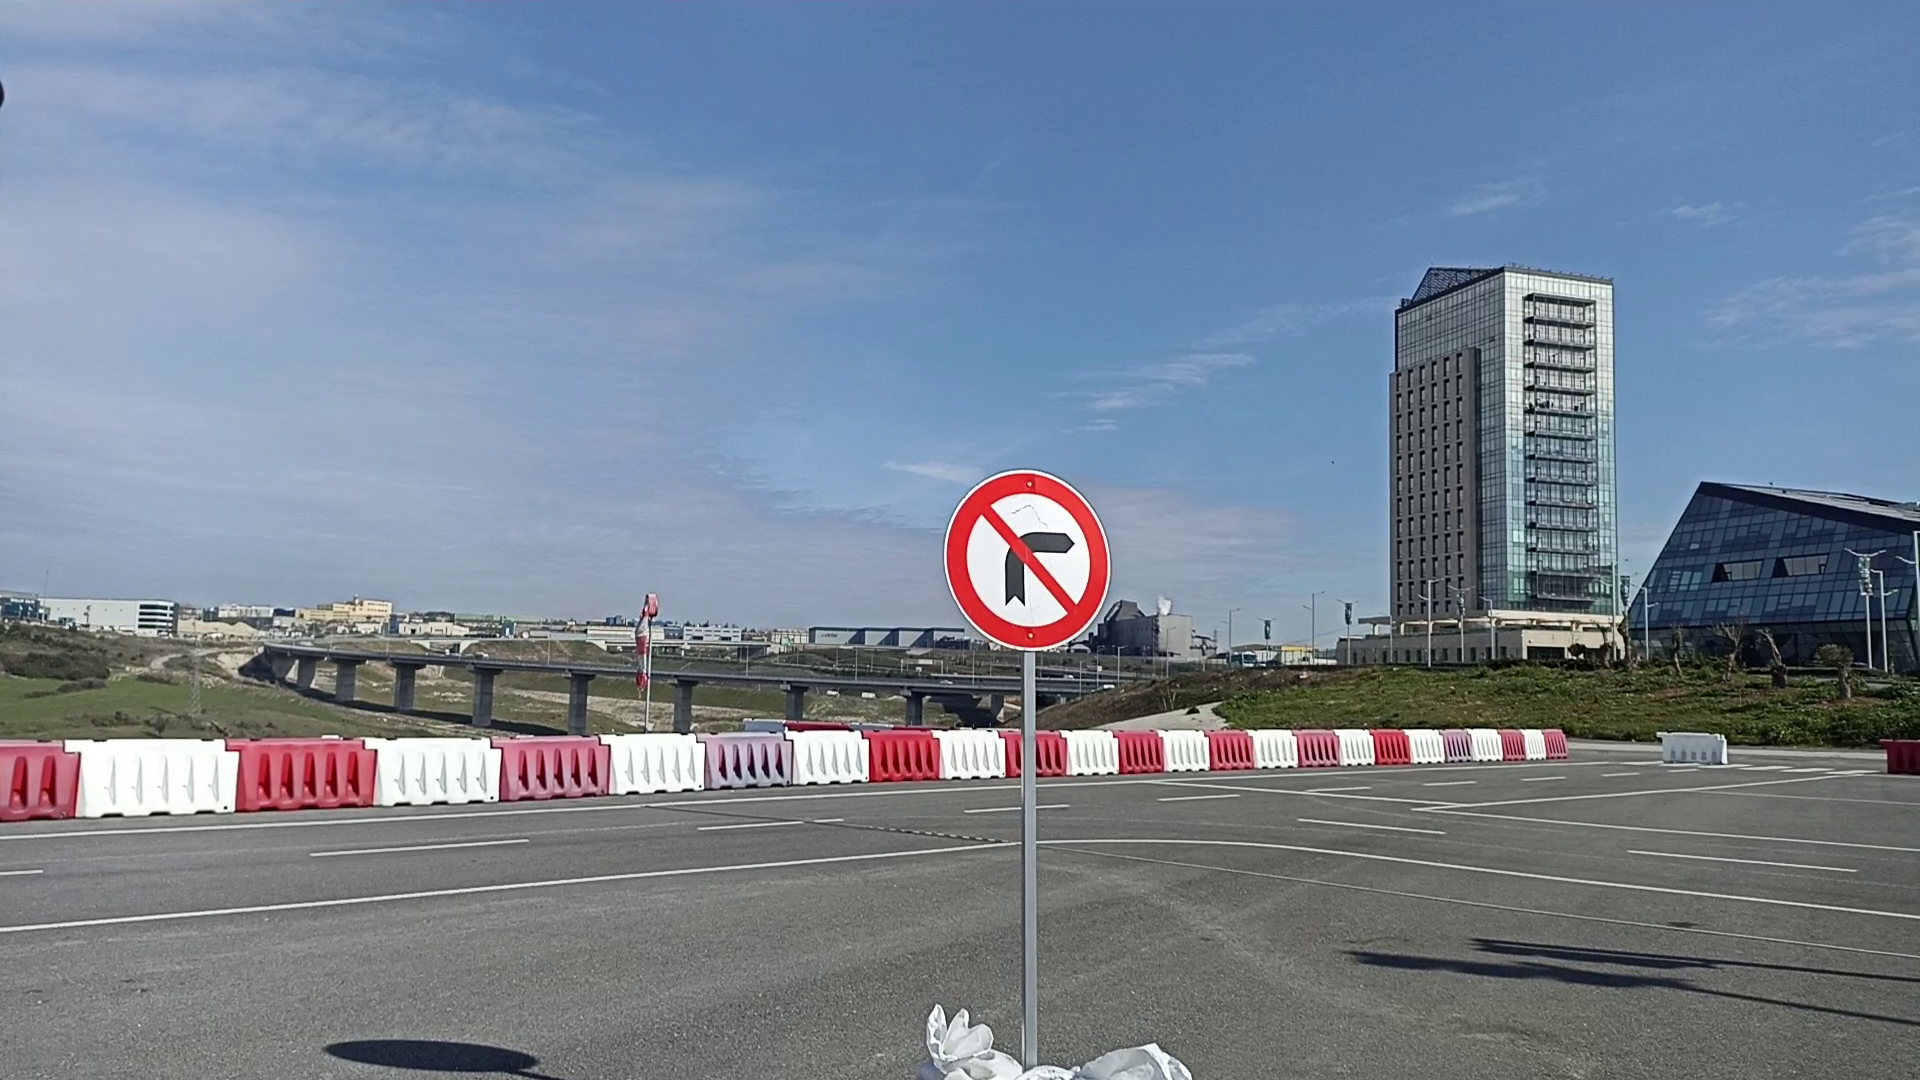noleftturn: (942, 465, 1113, 654)
